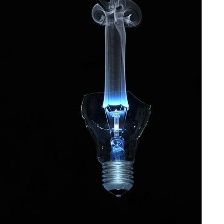light_bulb: (78, 79, 154, 202)
